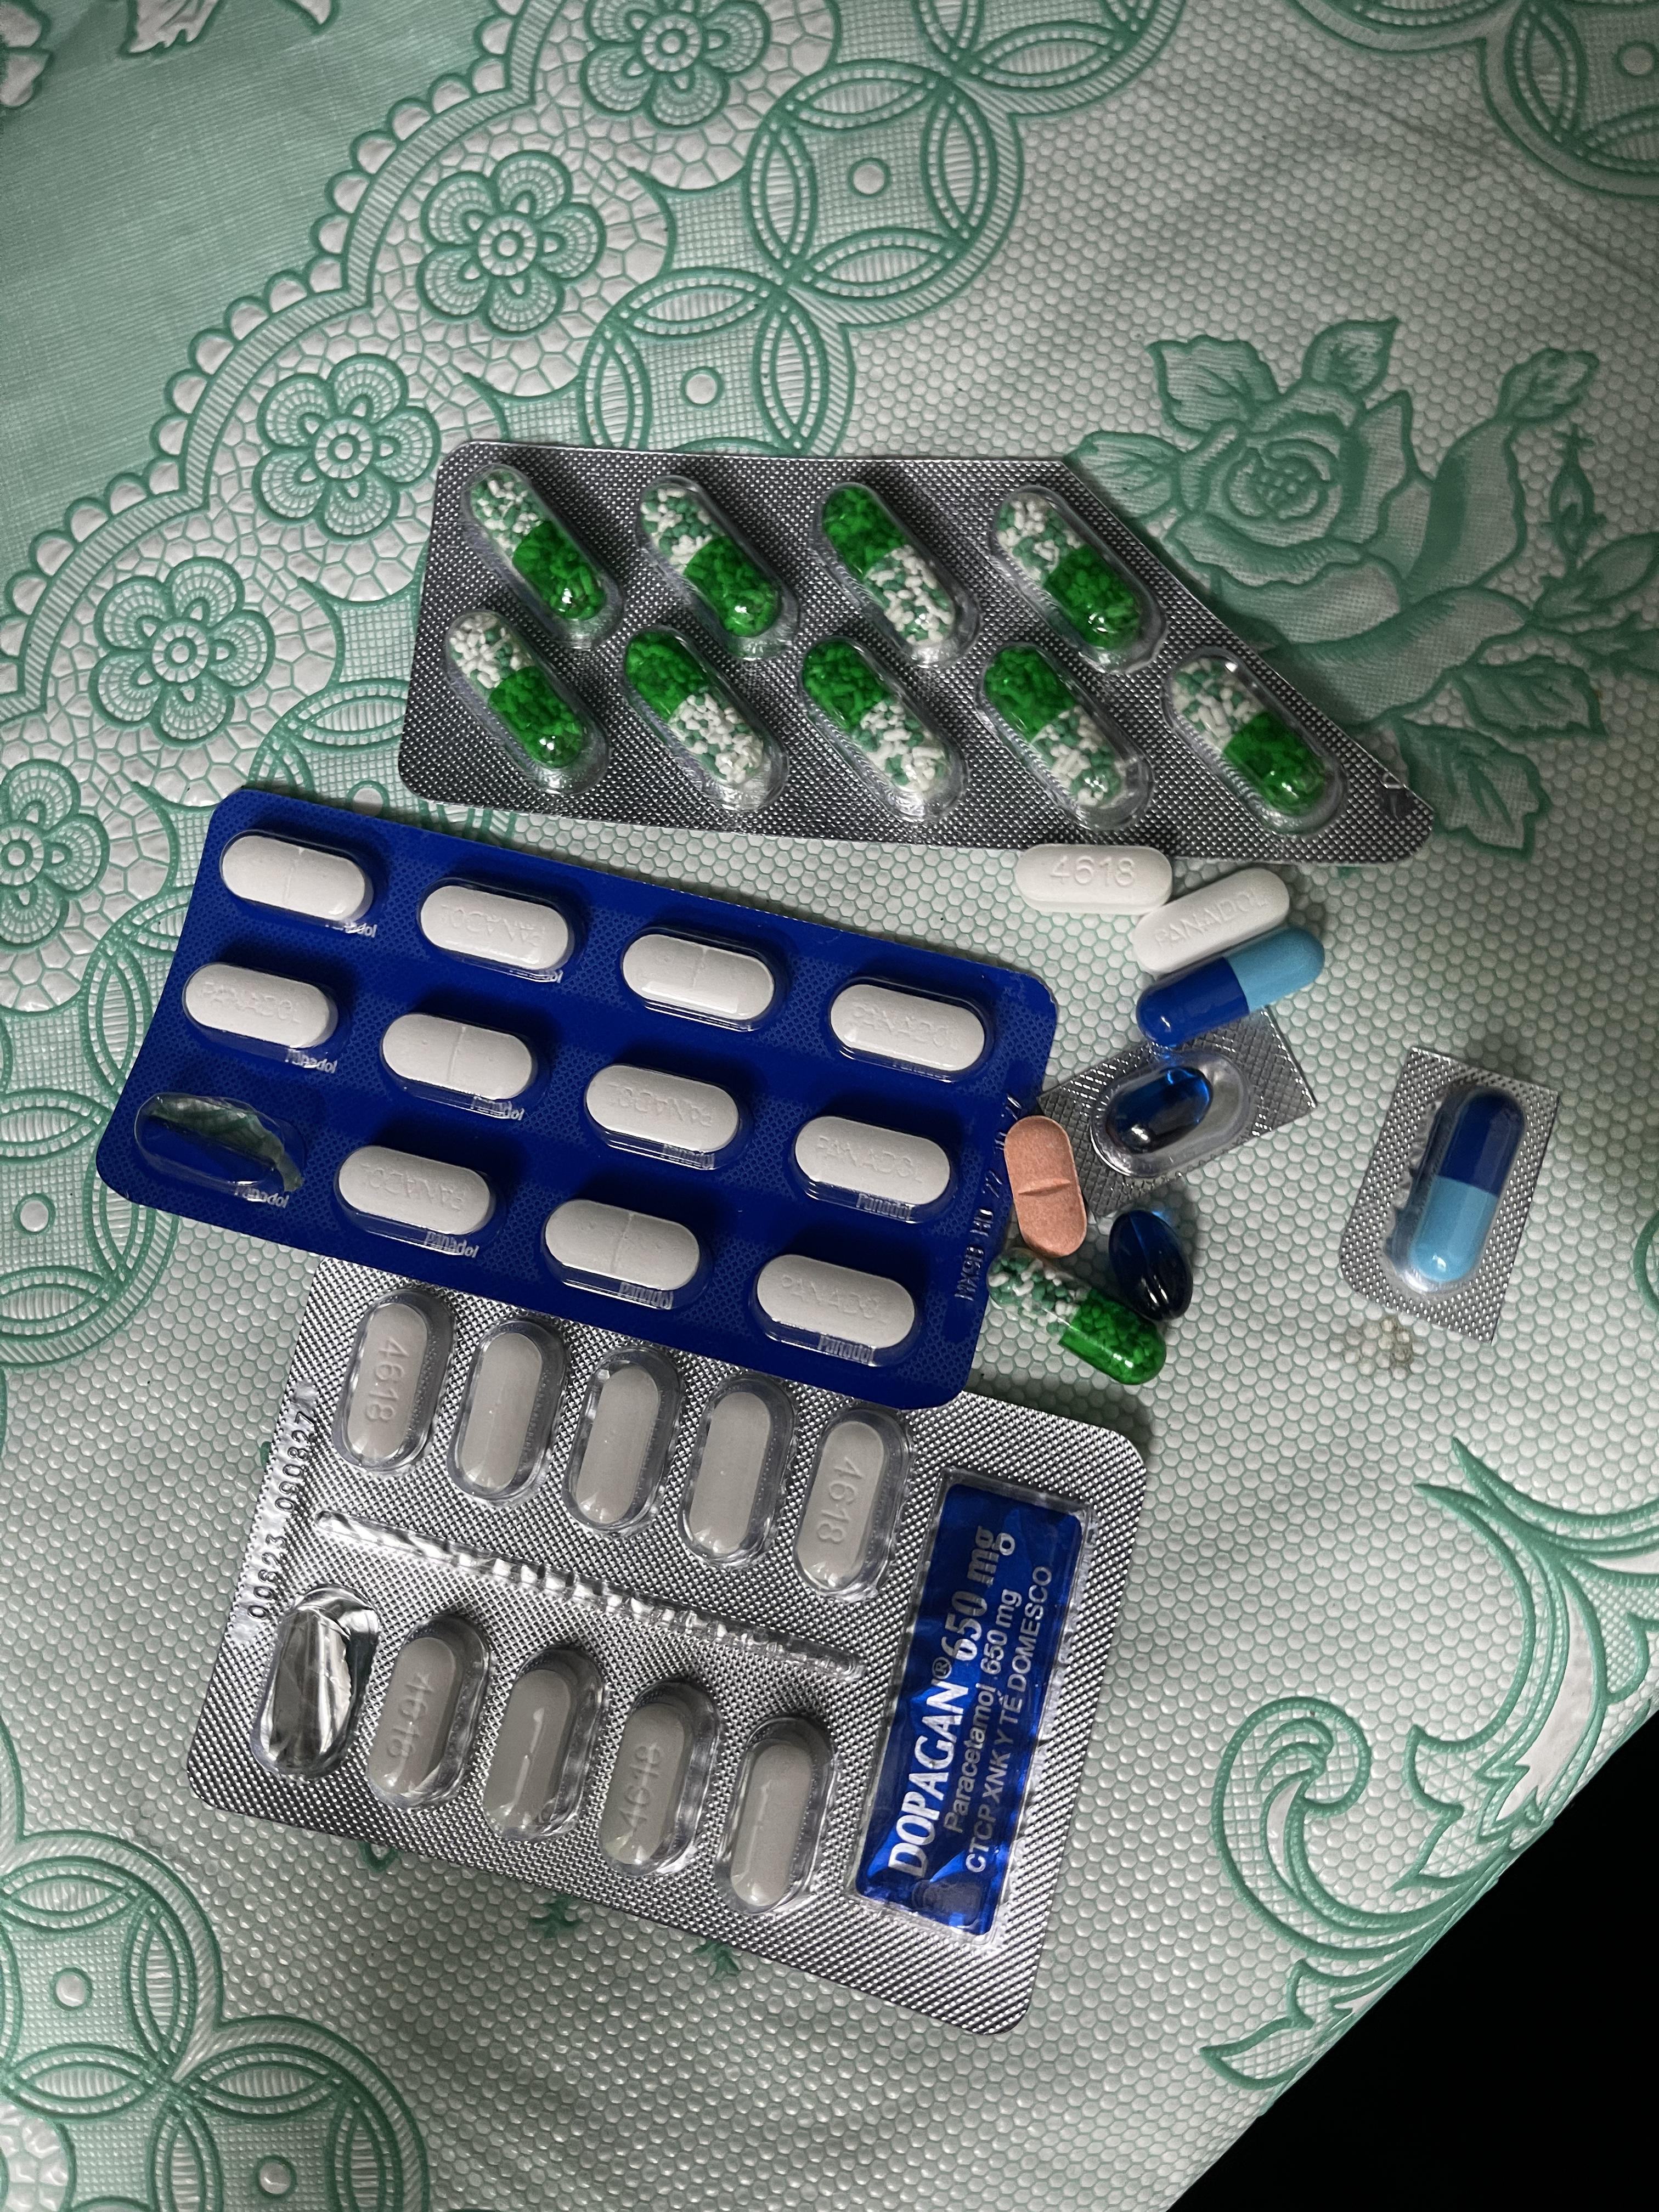Lincomyxin_500mg: (1107, 1064, 1216, 1157), (1108, 1209, 1190, 1318)
Loratadine_10mg: (1004, 1116, 1087, 1258)
Paracetamol_350mg: (753, 1252, 915, 1360), (586, 1059, 746, 1167), (622, 925, 784, 1031), (1129, 869, 1288, 977), (542, 1198, 702, 1305), (793, 1113, 951, 1219), (828, 979, 990, 1080), (380, 1010, 533, 1113), (336, 1146, 495, 1245), (420, 880, 575, 979), (185, 961, 340, 1057), (220, 833, 373, 928)
Paracetamol_500mg: (362, 1606, 490, 1811), (596, 1679, 716, 1883), (481, 1637, 601, 1839), (713, 1712, 831, 1916), (559, 1346, 681, 1531), (673, 1371, 793, 1557), (788, 1402, 908, 1588), (446, 1315, 566, 1500), (333, 1292, 450, 1474), (1014, 845, 1161, 911)
Paracetamol_650mg: (795, 627, 969, 822), (638, 474, 803, 658), (444, 610, 606, 792), (981, 643, 1143, 819), (990, 1244, 1159, 1385), (626, 631, 774, 791), (821, 489, 965, 653), (472, 469, 610, 627), (999, 495, 1136, 653), (1182, 662, 1323, 813)
pill: (1389, 1087, 1528, 1298), (1143, 928, 1319, 1052)
